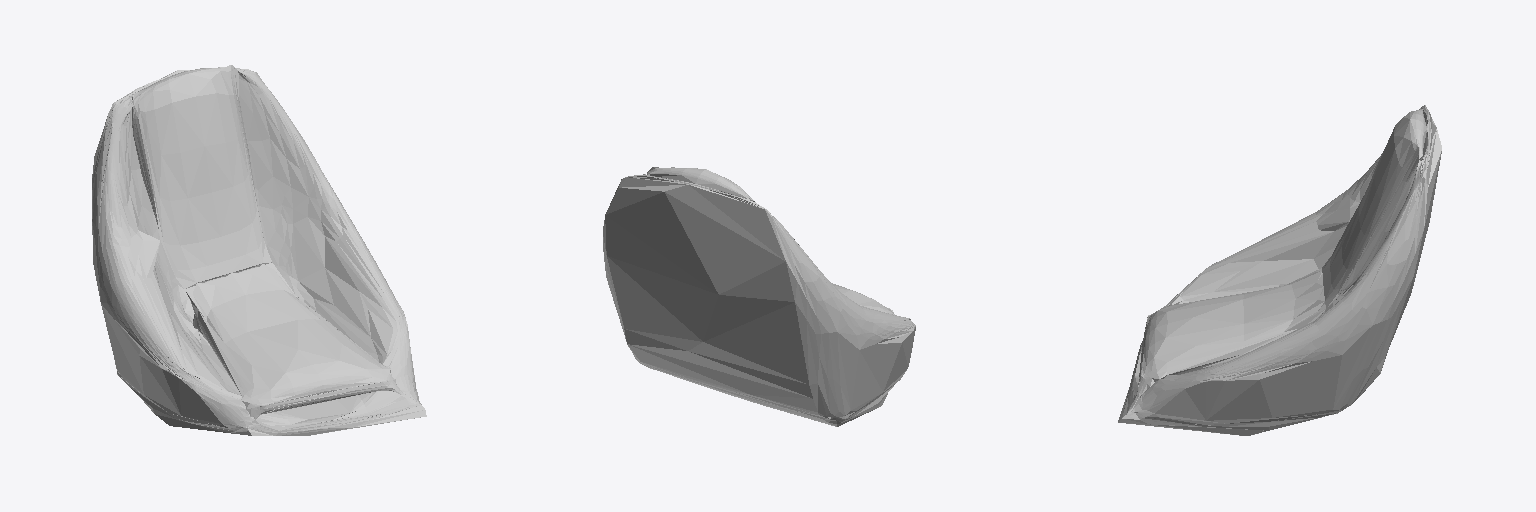
File: chair9.obj
3 views of the same model, side by side, from view 1: azimuth 30°, elevation 25°; view 2: azimuth 150°, elevation 25°; view 3: azimuth 270°, elevation 25° (orthographic).
Visible parts, largest first — view 1: Armchair9:Mesh; view 2: Armchair9:Mesh; view 3: Armchair9:Mesh.
Part boxes in pixels (x1,y1,x2,y2): Armchair9:Mesh: (92,65,426,435); Armchair9:Mesh: (603,167,915,426); Armchair9:Mesh: (1118,105,1441,435).
Bounding box in the file's own units: 0.456 × 0.4698 × 0.5113.